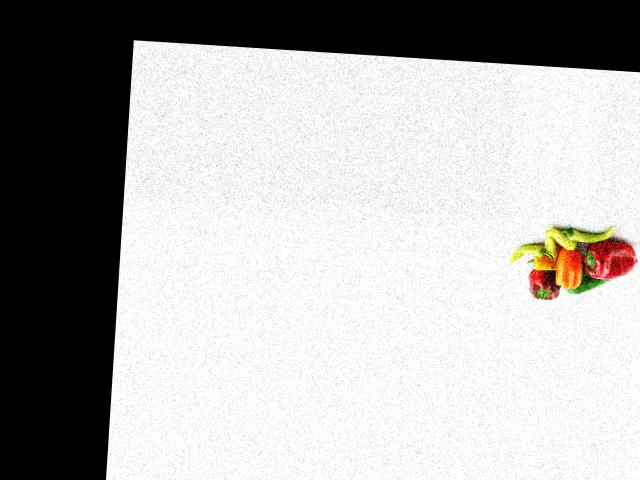bell_pepper: (558, 223, 618, 244)
